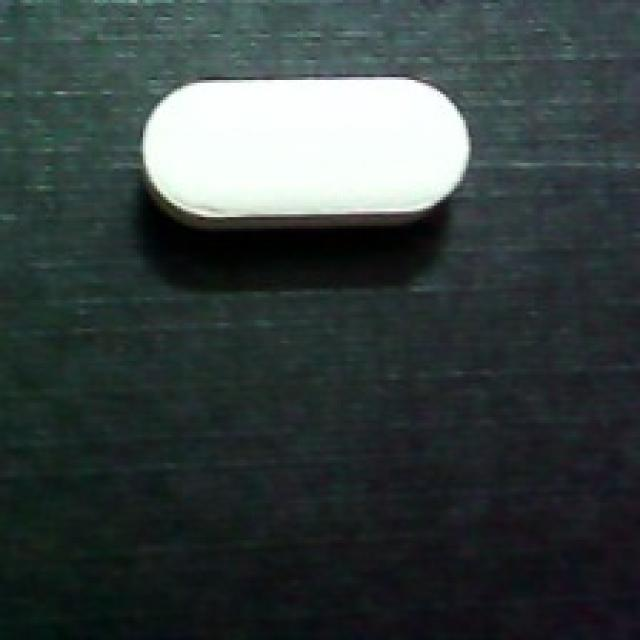no-defect: (137, 77, 474, 234)
